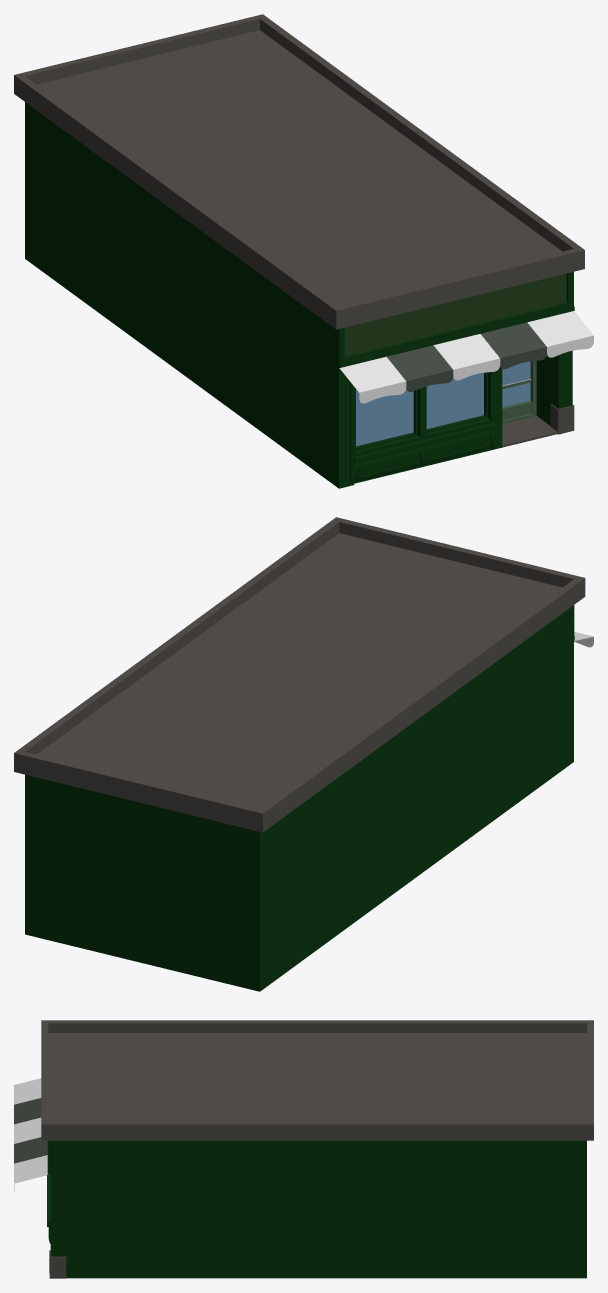
Rendered from Shop.fbx.
3 views of the same model, one above another, from view 1: azimuth 30°, elevation 25°; view 2: azimuth 150°, elevation 25°; view 3: azimuth 270°, elevation 25° (orthographic). The views are drawn at different scales.
Visible parts, largest first — view 1: pasted__pasted__pasted__pCube20; view 2: pasted__pasted__pasted__pCube20; view 3: pasted__pasted__pasted__pCube20.
Boxes of the visible parts, left/top/right/bottom form: pasted__pasted__pasted__pCube20: left=14, top=14, right=593, bottom=488; pasted__pasted__pasted__pCube20: left=14, top=517, right=593, bottom=991; pasted__pasted__pasted__pCube20: left=14, top=1020, right=593, bottom=1278.
Size of the model in its own units: 247 by 173 by 581.
